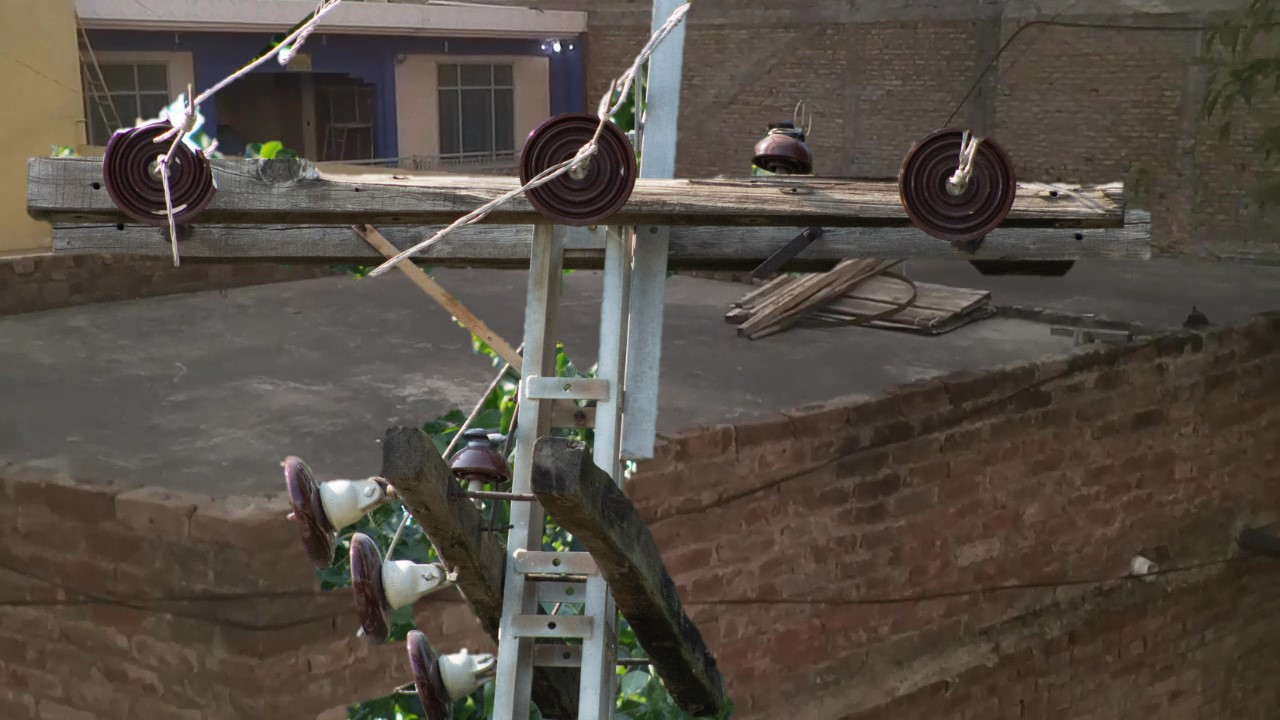defect_disc: (100, 113, 225, 234)
insulator_disc: (515, 110, 643, 231), (896, 124, 1021, 246), (391, 620, 490, 714), (278, 449, 348, 578), (339, 540, 401, 646)
insulator_pin: (750, 115, 820, 183), (447, 421, 511, 488)
